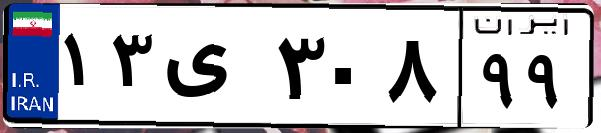0: (330, 28, 385, 110)
1: (57, 26, 110, 100)
3: (270, 28, 330, 110), (110, 28, 158, 98)
8: (385, 28, 445, 110)
9: (475, 38, 525, 113), (525, 38, 570, 115)
ی: (158, 20, 270, 120)
